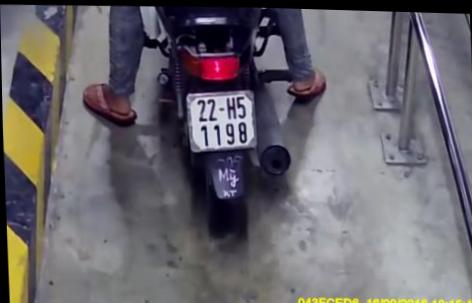LP: (184, 87, 261, 154)
